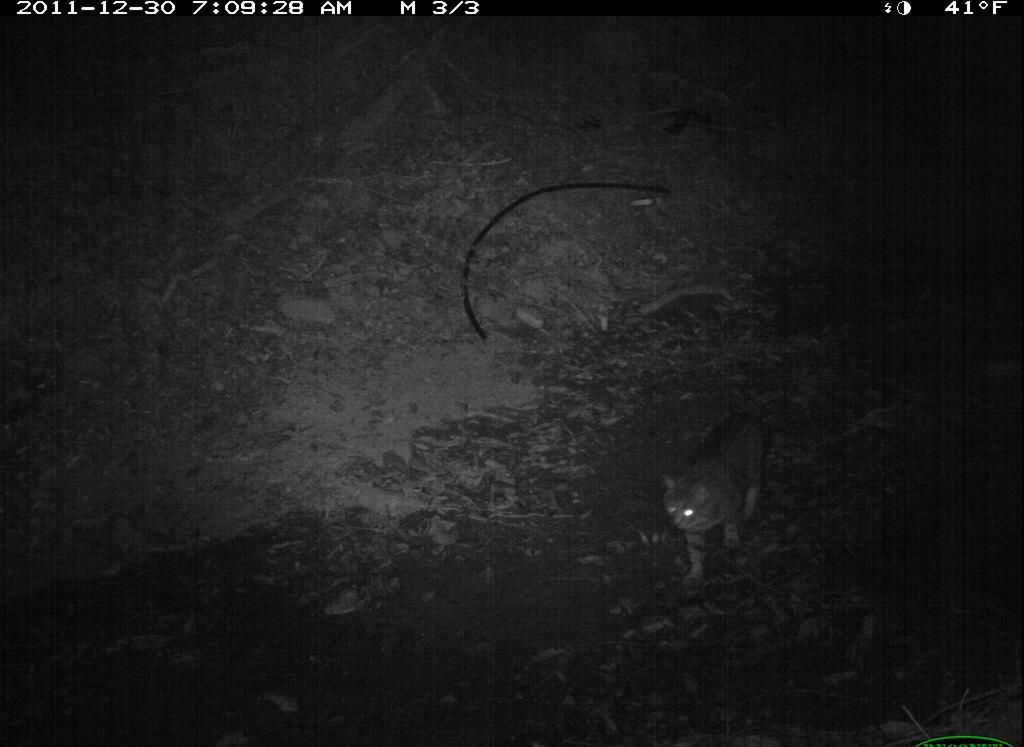cat: (648, 383, 792, 597)
